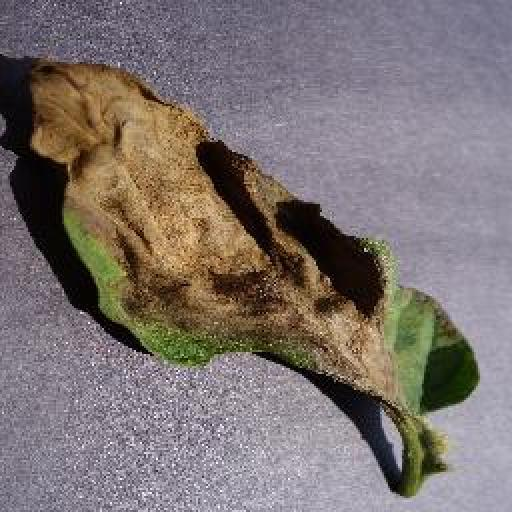disease_tomato: (19, 52, 485, 420)
